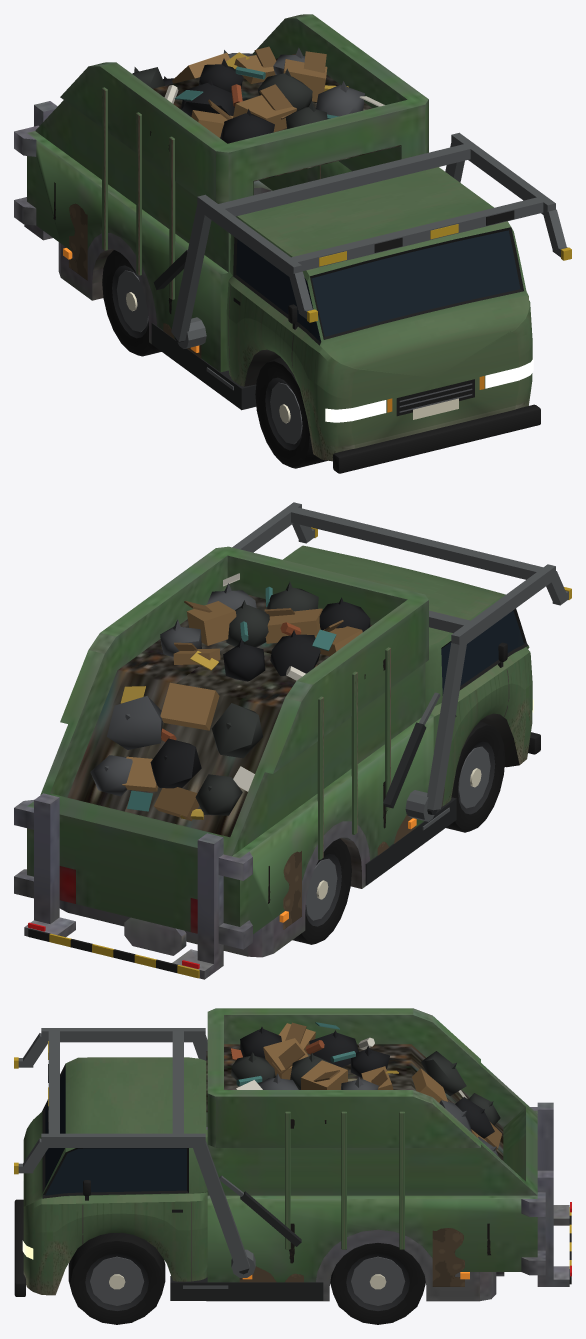
The model's file is garbage-truck.glb.
The picture shows the model from 3 angles, top to bottom: view 1: azimuth 30°, elevation 25°; view 2: azimuth 150°, elevation 25°; view 3: azimuth 270°, elevation 25°; orthographic projection. The views are drawn at different scales.
Visible parts, largest first — view 1: body, arm, trash, wheel-front-right, wheel-front-right.1, wheel-back-right.1, wheel-back-right; view 2: body, trash, arm, wheel-front-right, wheel-front-right.1, wheel-back-right.1, wheel-back-right; view 3: body, trash, arm, wheel-front-left, wheel-back-left, wheel-back-left.1, wheel-front-left.1.
Boxes of the visible parts, x1,y1,x2,y2 form: body: [14, 14, 540, 473]; arm: [153, 132, 571, 348]; trash: [132, 46, 384, 143]; wheel-front-right: [255, 357, 327, 468]; wheel-front-right.1: [265, 377, 302, 450]; wheel-back-right.1: [112, 265, 148, 338]; wheel-back-right: [102, 250, 161, 356]; body: [14, 545, 540, 979]; trash: [90, 573, 370, 821]; arm: [232, 502, 571, 821]; wheel-front-right: [446, 721, 505, 832]; wheel-front-right.1: [458, 741, 495, 814]; wheel-back-right.1: [305, 853, 341, 926]; wheel-back-right: [292, 838, 351, 944]; body: [14, 1008, 571, 1301]; trash: [230, 1022, 501, 1156]; arm: [14, 1028, 301, 1277]; wheel-front-left: [68, 1232, 165, 1324]; wheel-back-left: [330, 1243, 425, 1324]; wheel-back-left.1: [346, 1253, 409, 1310]; wheel-front-left.1: [85, 1253, 148, 1310].
Bounding box in the file's own units: 1.6 × 1.65 × 3.46.
Materials: 29 (4 with a texture image).
